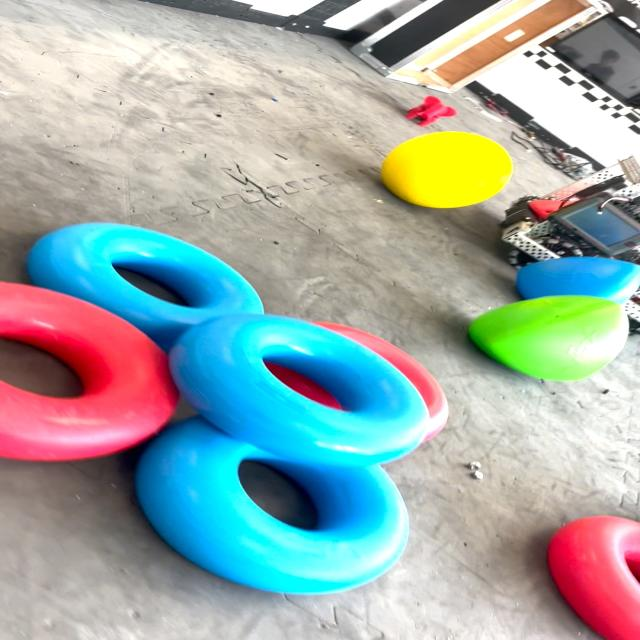Blue-Ring: (136, 416, 409, 594), (169, 314, 429, 466), (27, 222, 264, 350)
Red-Ring: (0, 282, 178, 461), (549, 516, 640, 640)
